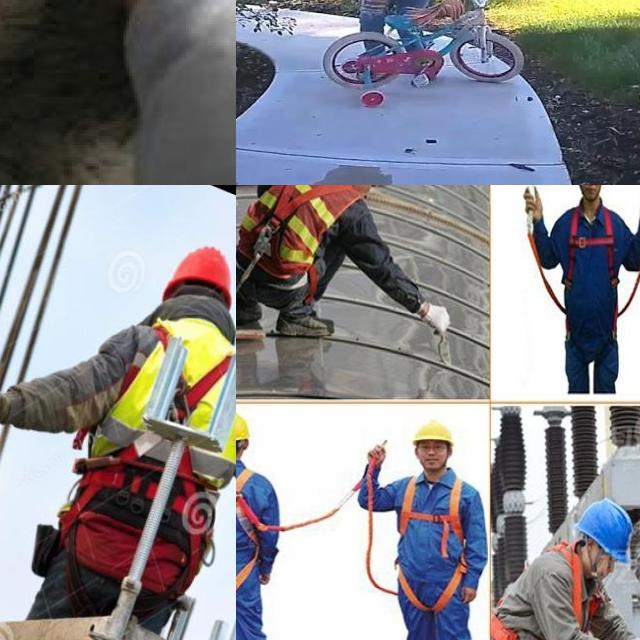Barefoots: (0, 0, 236, 61)
Harness: (65, 324, 232, 557), (397, 472, 468, 604), (248, 185, 353, 266), (559, 206, 622, 288), (236, 465, 259, 595)
hand_noglove: (432, 0, 472, 21)
person: (311, 0, 487, 96)
